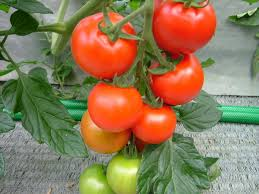tomato: (71, 12, 138, 80), (153, 1, 215, 56), (145, 51, 203, 104), (85, 80, 142, 131), (79, 111, 131, 154), (134, 102, 175, 145)
